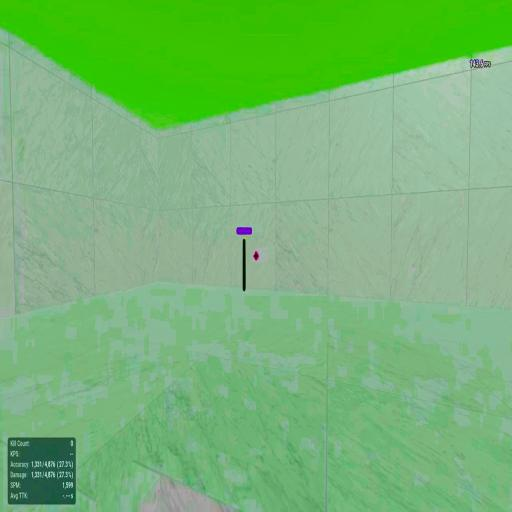Crosshair: (253, 252, 259, 260)
Target: (242, 239, 246, 292)
